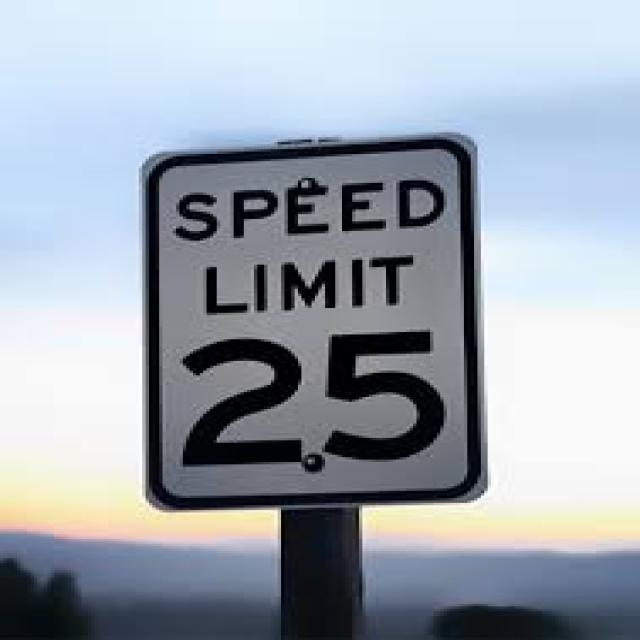speedLimit25: (155, 153, 490, 511)
